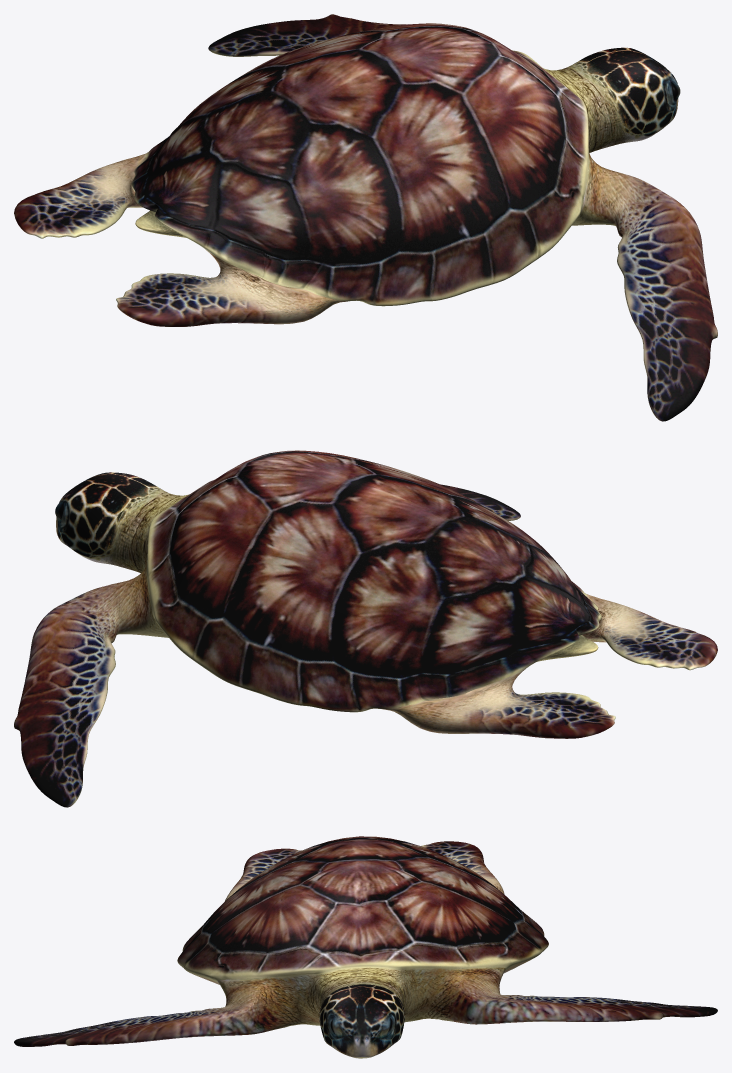
File: 10042_Sea_Turtle_V2_iterations-2.obj
The picture shows the model from 3 angles, top to bottom: view 1: azimuth 30°, elevation 25°; view 2: azimuth 150°, elevation 25°; view 3: azimuth 270°, elevation 25°; orthographic projection. The views are drawn at different scales.
Parts seen in each view (by area): view 1: _Sea_Turtle_V1; view 2: _Sea_Turtle_V1; view 3: _Sea_Turtle_V1.
Boxes of the visible parts, bbox=[...] form: _Sea_Turtle_V1: bbox=[14, 14, 717, 421]; _Sea_Turtle_V1: bbox=[14, 450, 717, 807]; _Sea_Turtle_V1: bbox=[14, 836, 717, 1058].
Bounding box in the file's own units: 4.74 × 1.6 × 6.21.
1 material, 1 textured.
